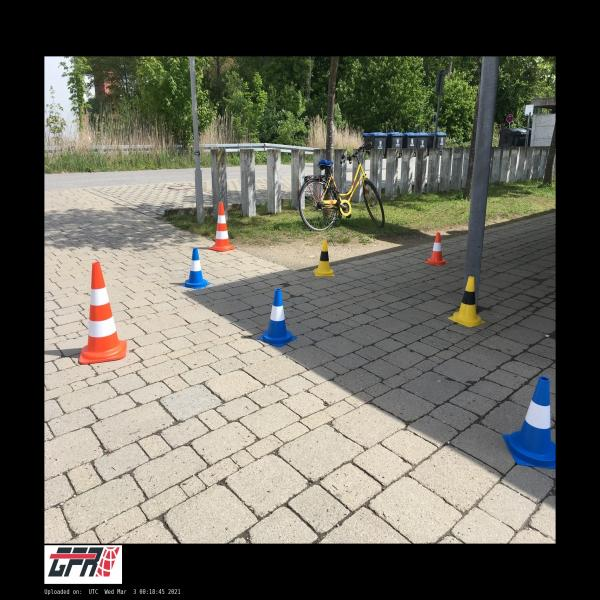blue_cone: (503, 377, 555, 469), (257, 289, 297, 347), (181, 247, 211, 289)
large_orange_cone: (79, 262, 127, 364), (209, 202, 235, 252)
orange_cone: (424, 233, 449, 266)
yellow_cone: (448, 276, 485, 327), (313, 241, 335, 276)
